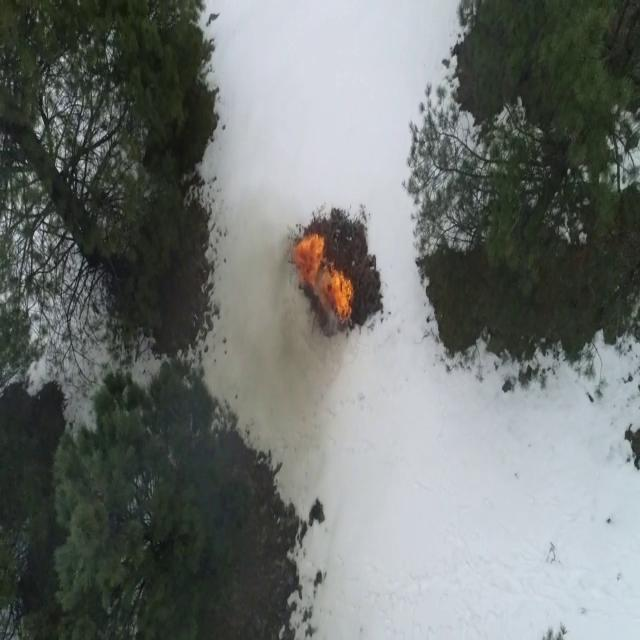fire: (292, 230, 325, 284), (323, 272, 354, 320)
